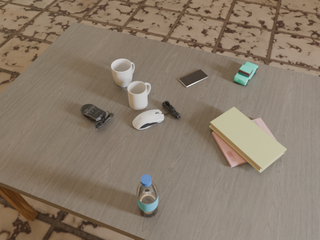book: (209, 107, 287, 173), (212, 118, 277, 167)
bottle: (137, 175, 158, 217)
cup: (127, 81, 151, 110), (111, 59, 134, 87)
mouse: (81, 104, 114, 129), (133, 110, 164, 130)
phone: (179, 70, 208, 87)
toy_car: (234, 62, 258, 86)
